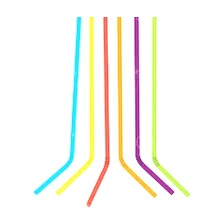drinking_straw: (29, 14, 85, 198), (146, 14, 193, 201), (81, 14, 113, 210)
